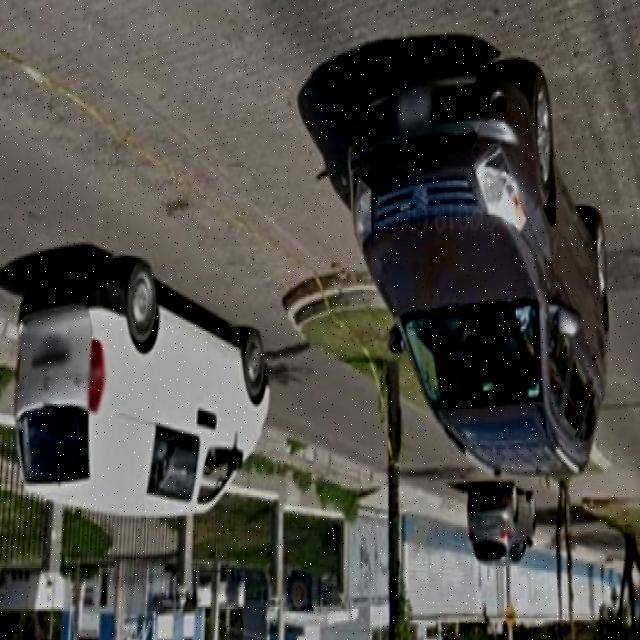car: (342, 65, 608, 482), (12, 263, 270, 523), (468, 490, 538, 572)
